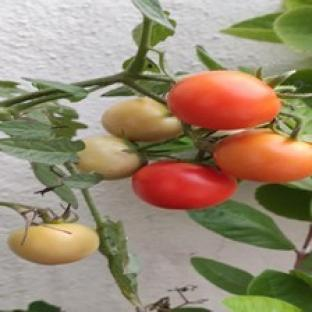Tomato: (168, 70, 281, 129), (214, 130, 311, 182), (133, 162, 236, 210), (7, 223, 98, 264), (102, 98, 182, 142), (77, 136, 143, 179)
